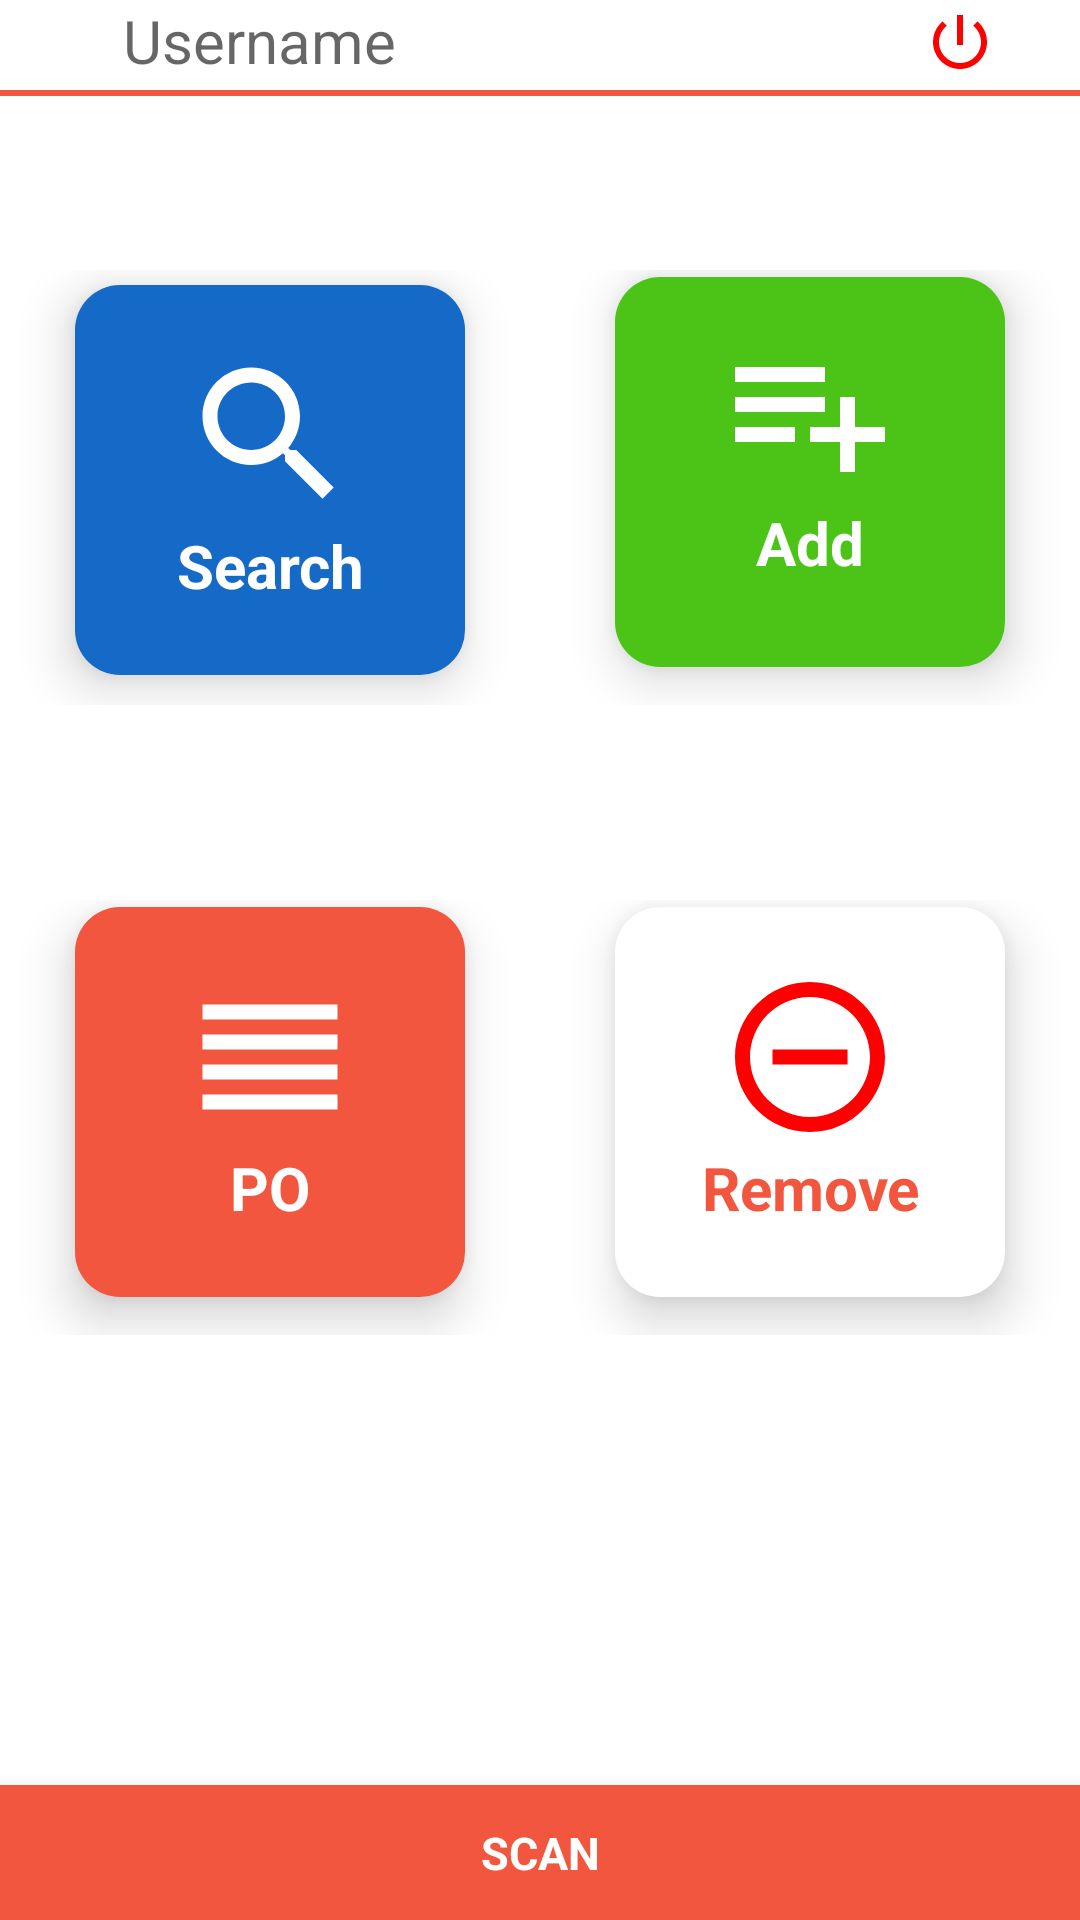

Named icons in this screenshot (1080 x 1920) and their bounding boxes, (x1, y1, x2, y2):
power settings: (933, 15, 987, 69)
